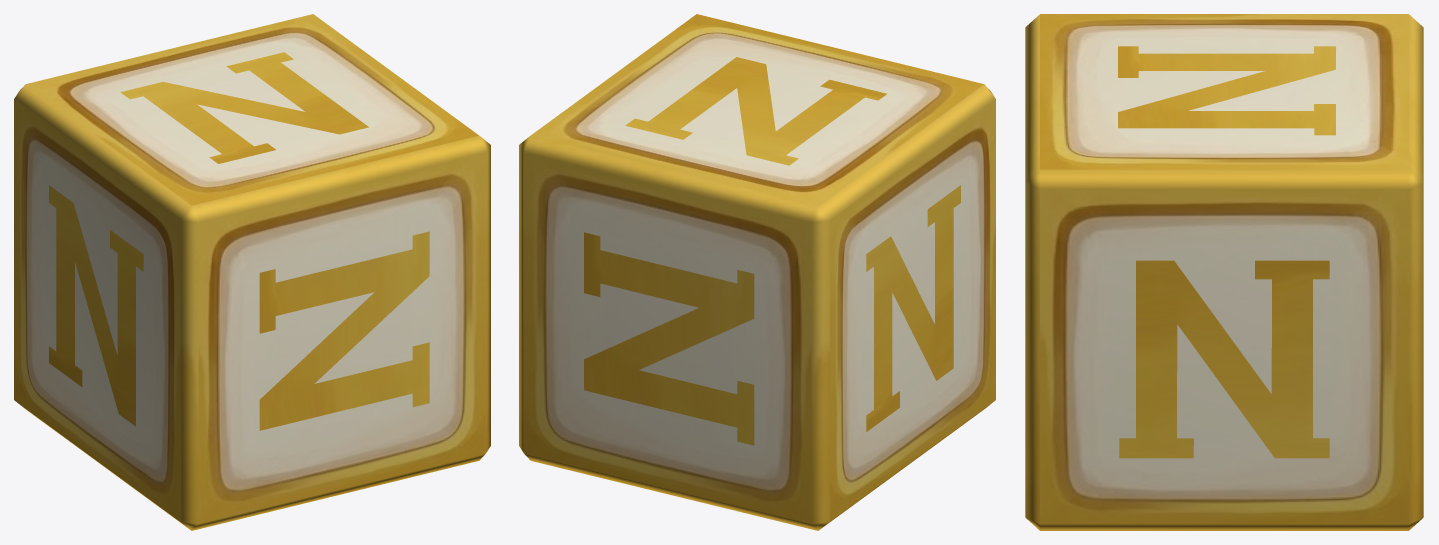
Rendered from CubeN.glb.
3 renders of one model, left to right at view 1: azimuth 30°, elevation 25°; view 2: azimuth 150°, elevation 25°; view 3: azimuth 270°, elevation 25°, orthographic. The views are drawn at different scales.
Parts seen in each view (by area): view 1: CubeN; view 2: CubeN; view 3: CubeN.
Boxes of the visible parts, x1,y1,x2,y2 form: CubeN: (14,14,490,530); CubeN: (519,14,995,530); CubeN: (1025,14,1423,530).
Size of what is drawn, in the model's own units: 0.513 by 0.513 by 0.513.
Materials: 1 (1 with a texture image).
